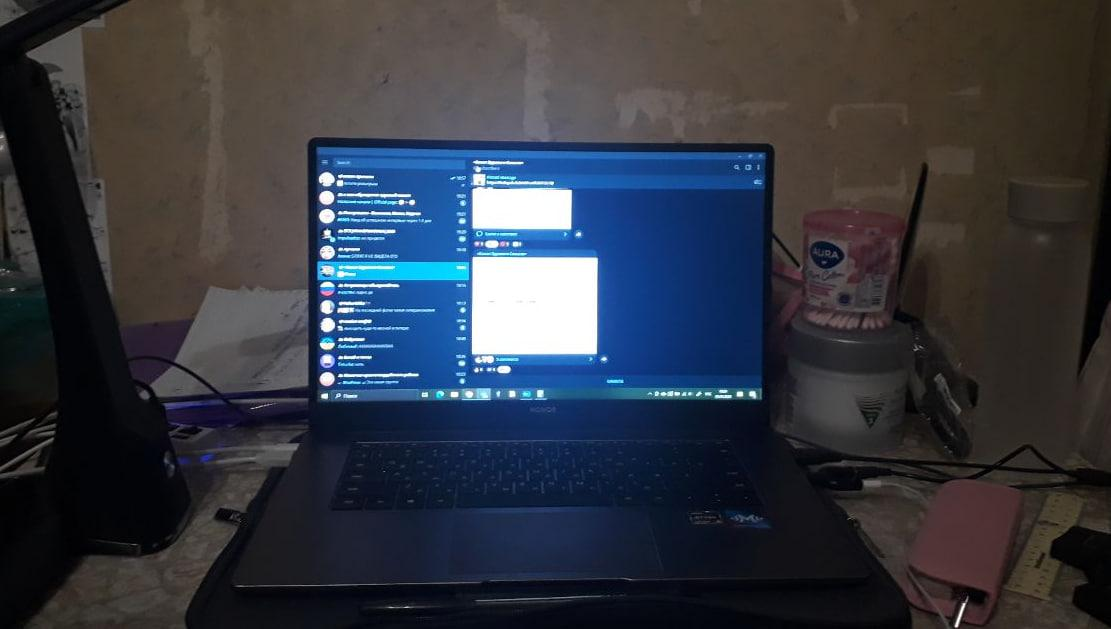monitor: (303, 129, 780, 433)
